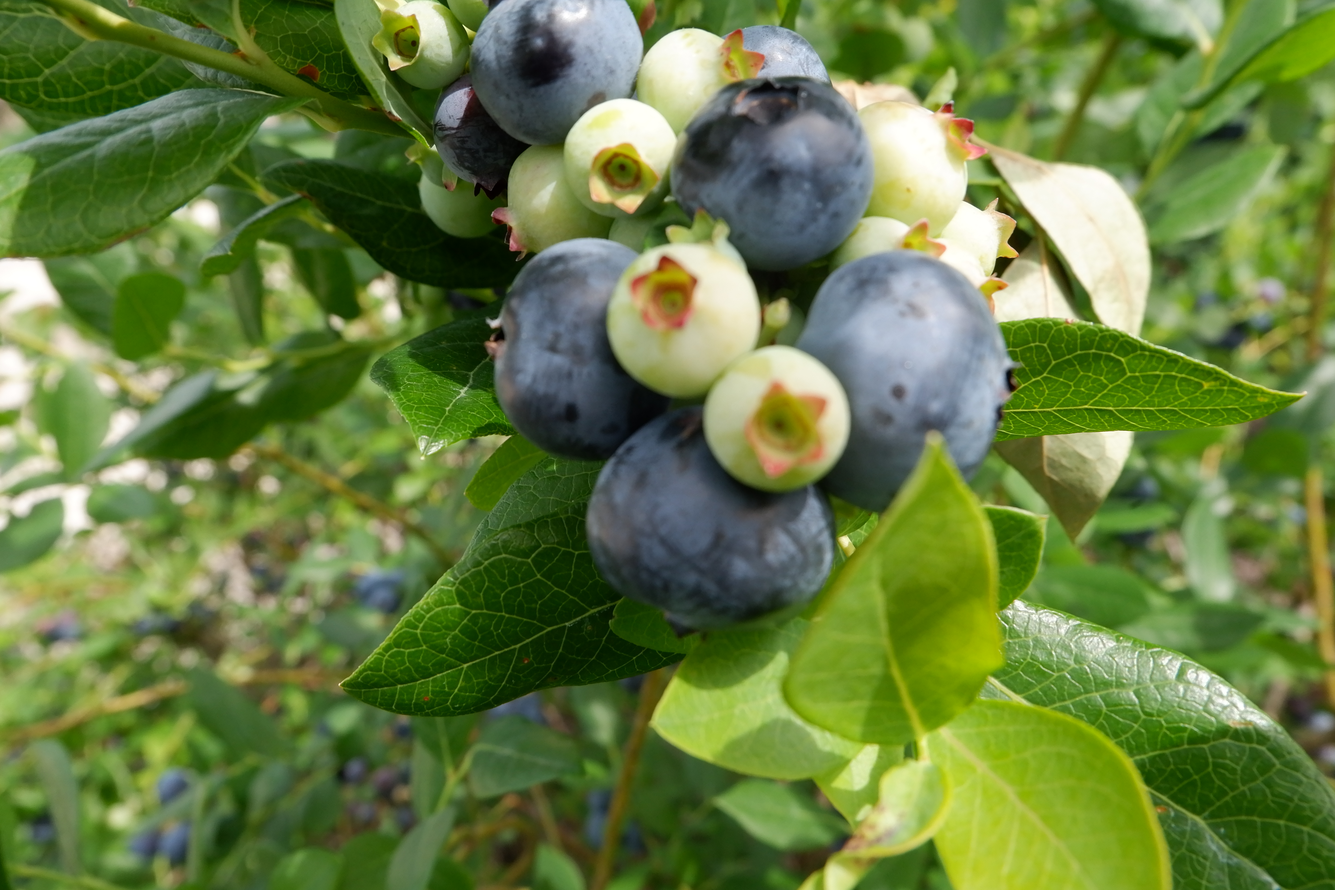Immature: (609, 239, 758, 393), (707, 348, 849, 489), (861, 103, 973, 229), (500, 145, 608, 254), (567, 102, 674, 212), (639, 32, 757, 127), (374, 2, 467, 84), (935, 197, 1021, 275), (422, 155, 491, 235), (834, 217, 945, 265), (940, 240, 1008, 316), (609, 201, 673, 255), (446, 1, 491, 32)
Mature: (588, 402, 837, 630), (795, 248, 1009, 507), (494, 240, 665, 457), (676, 77, 870, 266), (472, 1, 644, 140), (435, 80, 527, 193), (736, 27, 828, 86)
